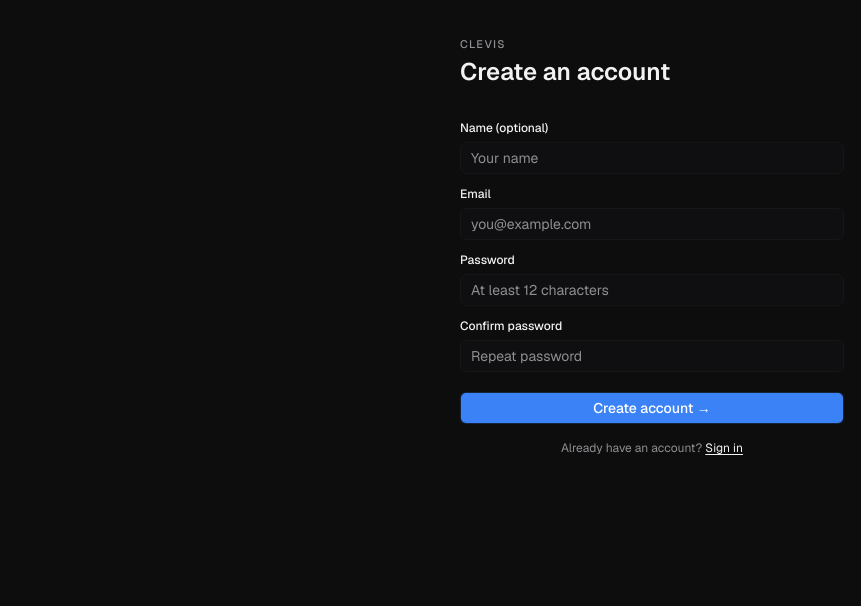
RegisterPage › carries pending_invitations from the register response into the auth context
The width and height of the screenshot is (861, 606).
In the field with placeholder "you@example.com": {"x": 652, "y": 224} [460,208,844,240], type "new@example.com"
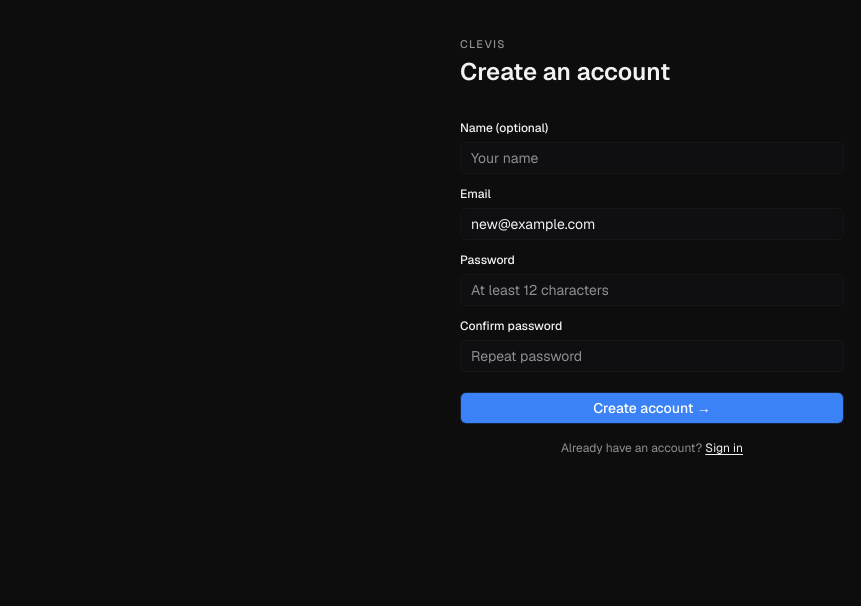
In the password field with placeholder "At least 12 characters": {"x": 652, "y": 290} [460,274,844,306], type "supersecret1234"
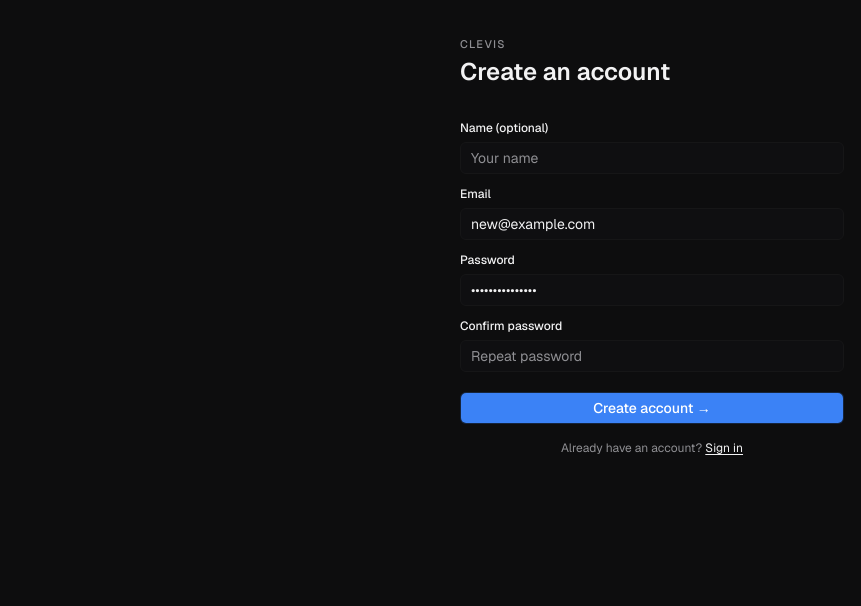
In the password field with placeholder "Repeat password": {"x": 652, "y": 356} [460,340,844,372], type "supersecret1234"
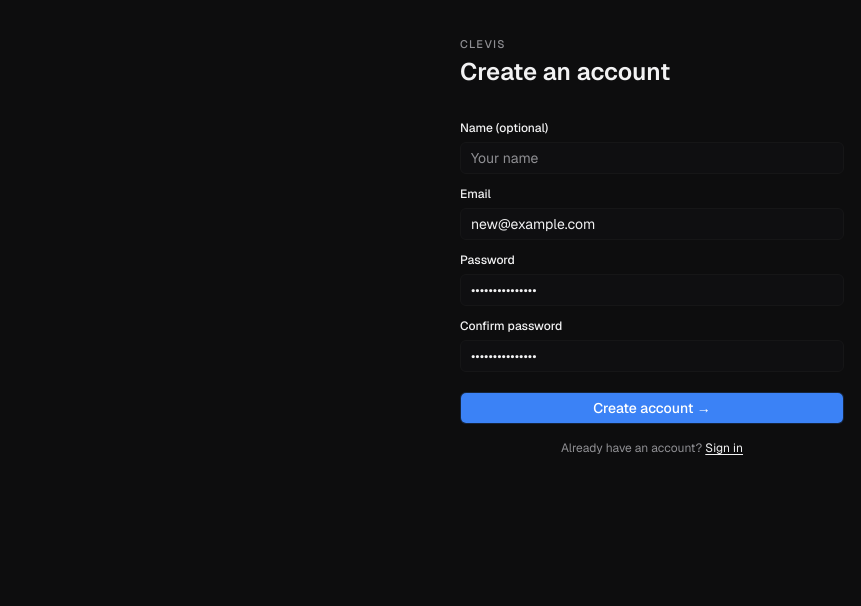
Click the button "Create account →": {"x": 652, "y": 408} [460,392,844,424]
(page scrolled)
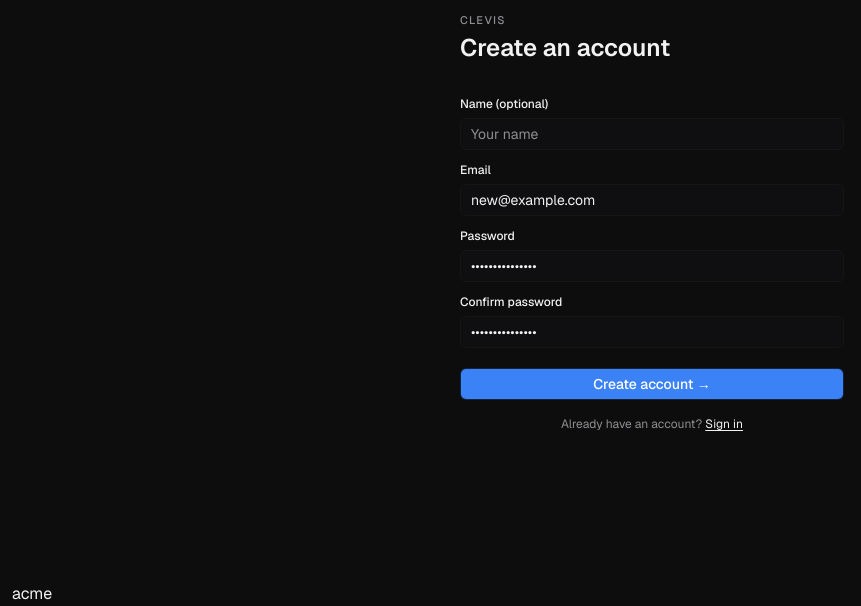
expect the list item "acme" is shown: met, box [12,583,52,604]
